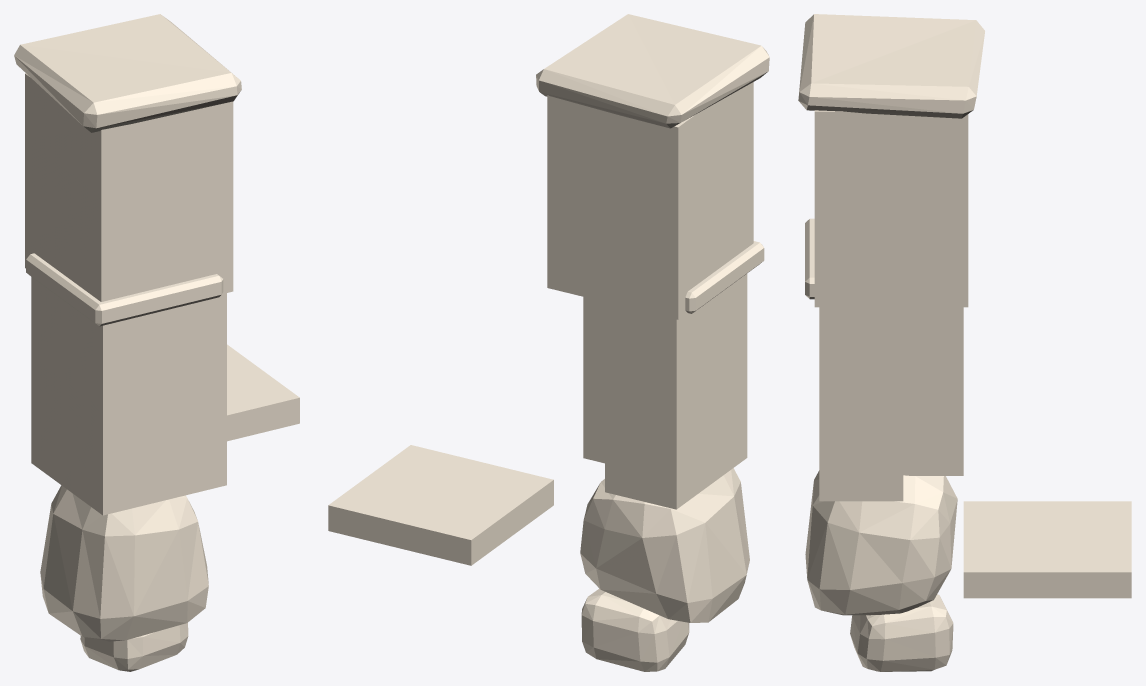
Rendered from SM_VK_Parapet_Corner.fbx.
3 views of the same model, side by side, from view 1: azimuth 30°, elevation 25°; view 2: azimuth 150°, elevation 25°; view 3: azimuth 270°, elevation 25° (orthographic).
Visible parts, largest first — view 1: SM_VK_Parapet_Corner.001; view 2: SM_VK_Parapet_Corner.001; view 3: SM_VK_Parapet_Corner.001.
Boxes of the visible parts, box(x1,y1,x2,y2) form: SM_VK_Parapet_Corner.001: box(14, 14, 299, 671); SM_VK_Parapet_Corner.001: box(328, 14, 769, 671); SM_VK_Parapet_Corner.001: box(798, 14, 1131, 671).
Bounding box in the file's own units: 1.4 × 2.81 × 1.39.
